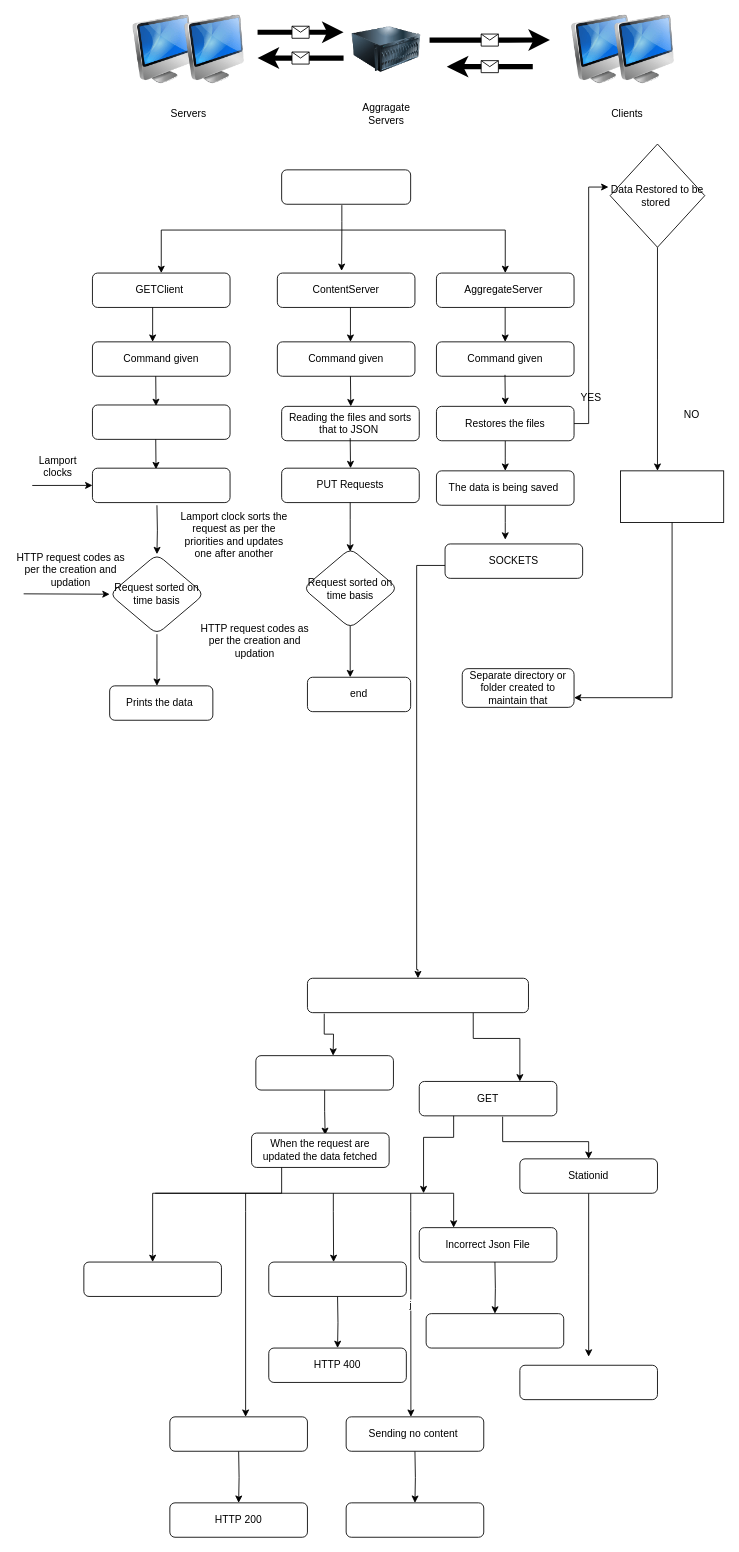
Image size: 739x1552. Some labels were removed from this diagram. Each missing label, with the centre of its shape:
Any other request than GET & PUT: [337,1278]
Created data successfully: [152,1278]
GET Requests: [161,485]
HTTP 204: [414,1519]
HTTP 500: [494,1330]
PUT: [324,1072]
Request: [588,1382]
Requests: [417,995]
Server requests: [161,421]
SYSTEM: [346,186]
The files are being deleted after the miscommunication: [672,496]
Updated data successfully: [238,1433]
